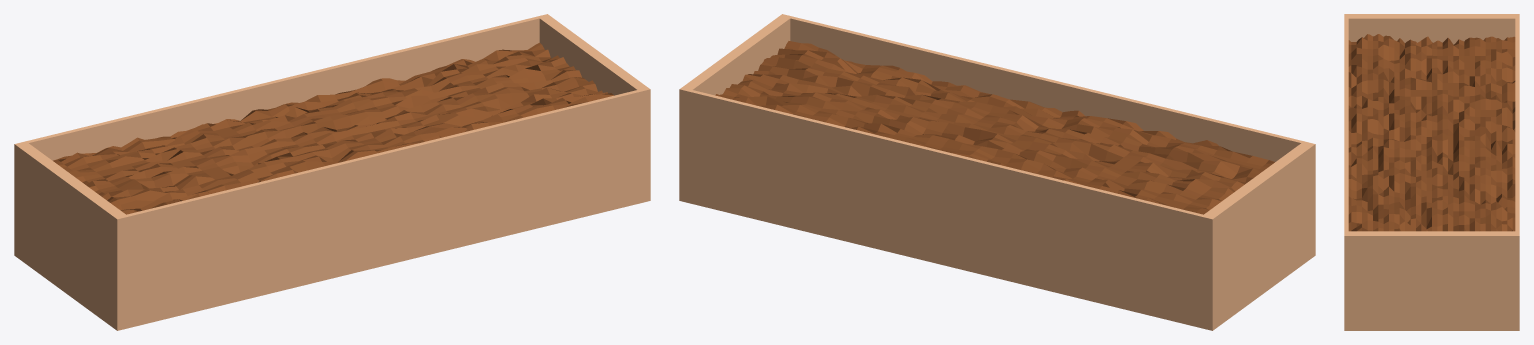
File: mod_bg_bacdeplantation3M.fbx
3 renders of one model, left to right at view 1: azimuth 30°, elevation 25°; view 2: azimuth 150°, elevation 25°; view 3: azimuth 270°, elevation 25°, orthographic. The views are drawn at different scales.
Parts seen in each view (by area): view 1: Bac de plantation 3M; view 2: Bac de plantation 3M; view 3: Bac de plantation 3M.
Boxes of the visible parts, box(x1,y1,x2,y2) form: Bac de plantation 3M: box(14, 14, 650, 330); Bac de plantation 3M: box(679, 14, 1315, 330); Bac de plantation 3M: box(1344, 14, 1519, 330).
Bounding box in the file's own units: 175 × 35 × 58.49.
